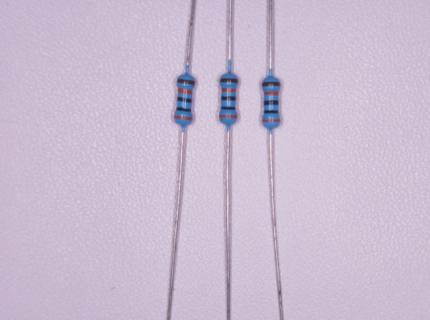Black band: (177, 97, 192, 103), (221, 96, 236, 101), (177, 107, 191, 112), (264, 101, 279, 105), (221, 107, 235, 110), (264, 110, 278, 113)
Brown band: (177, 79, 195, 85), (220, 78, 238, 83), (263, 82, 280, 87)
Orange band: (175, 116, 192, 121), (178, 88, 192, 94), (222, 88, 236, 92), (220, 115, 237, 118), (263, 119, 280, 122), (264, 92, 279, 95)
